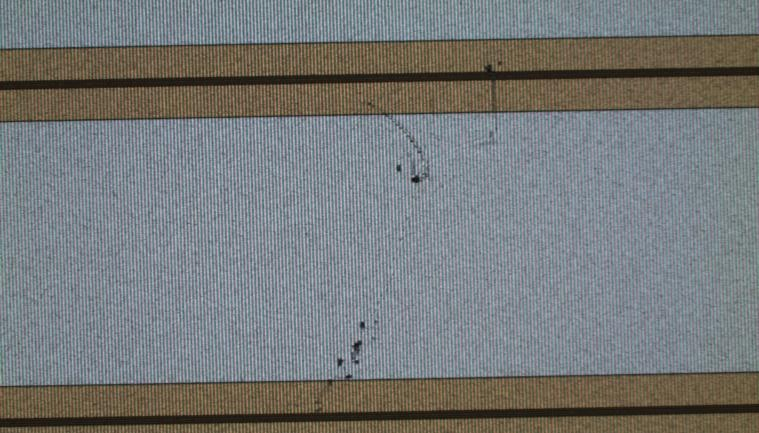SCRATCH: (303, 59, 509, 425)
